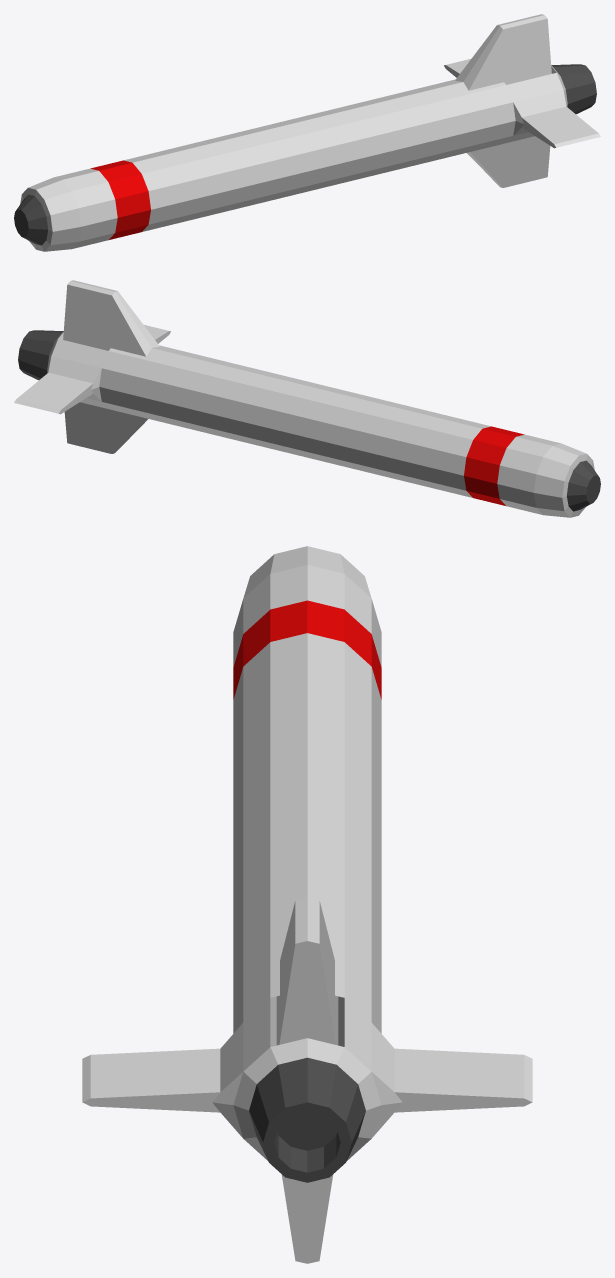
File: jetMissile.fbx
The picture shows the model from 3 angles, top to bottom: view 1: azimuth 30°, elevation 25°; view 2: azimuth 150°, elevation 25°; view 3: azimuth 270°, elevation 25°; orthographic projection. The views are drawn at different scales.
Parts seen in each view (by area): view 1: Cylinder; view 2: Cylinder; view 3: Cylinder.
Part boxes in pixels (box(x1,y1,x2,y2)): Cylinder: box(14, 14, 600, 251); Cylinder: box(14, 280, 600, 517); Cylinder: box(82, 546, 532, 1263).
Bounding box in the file's own units: 406 × 111 × 140.
